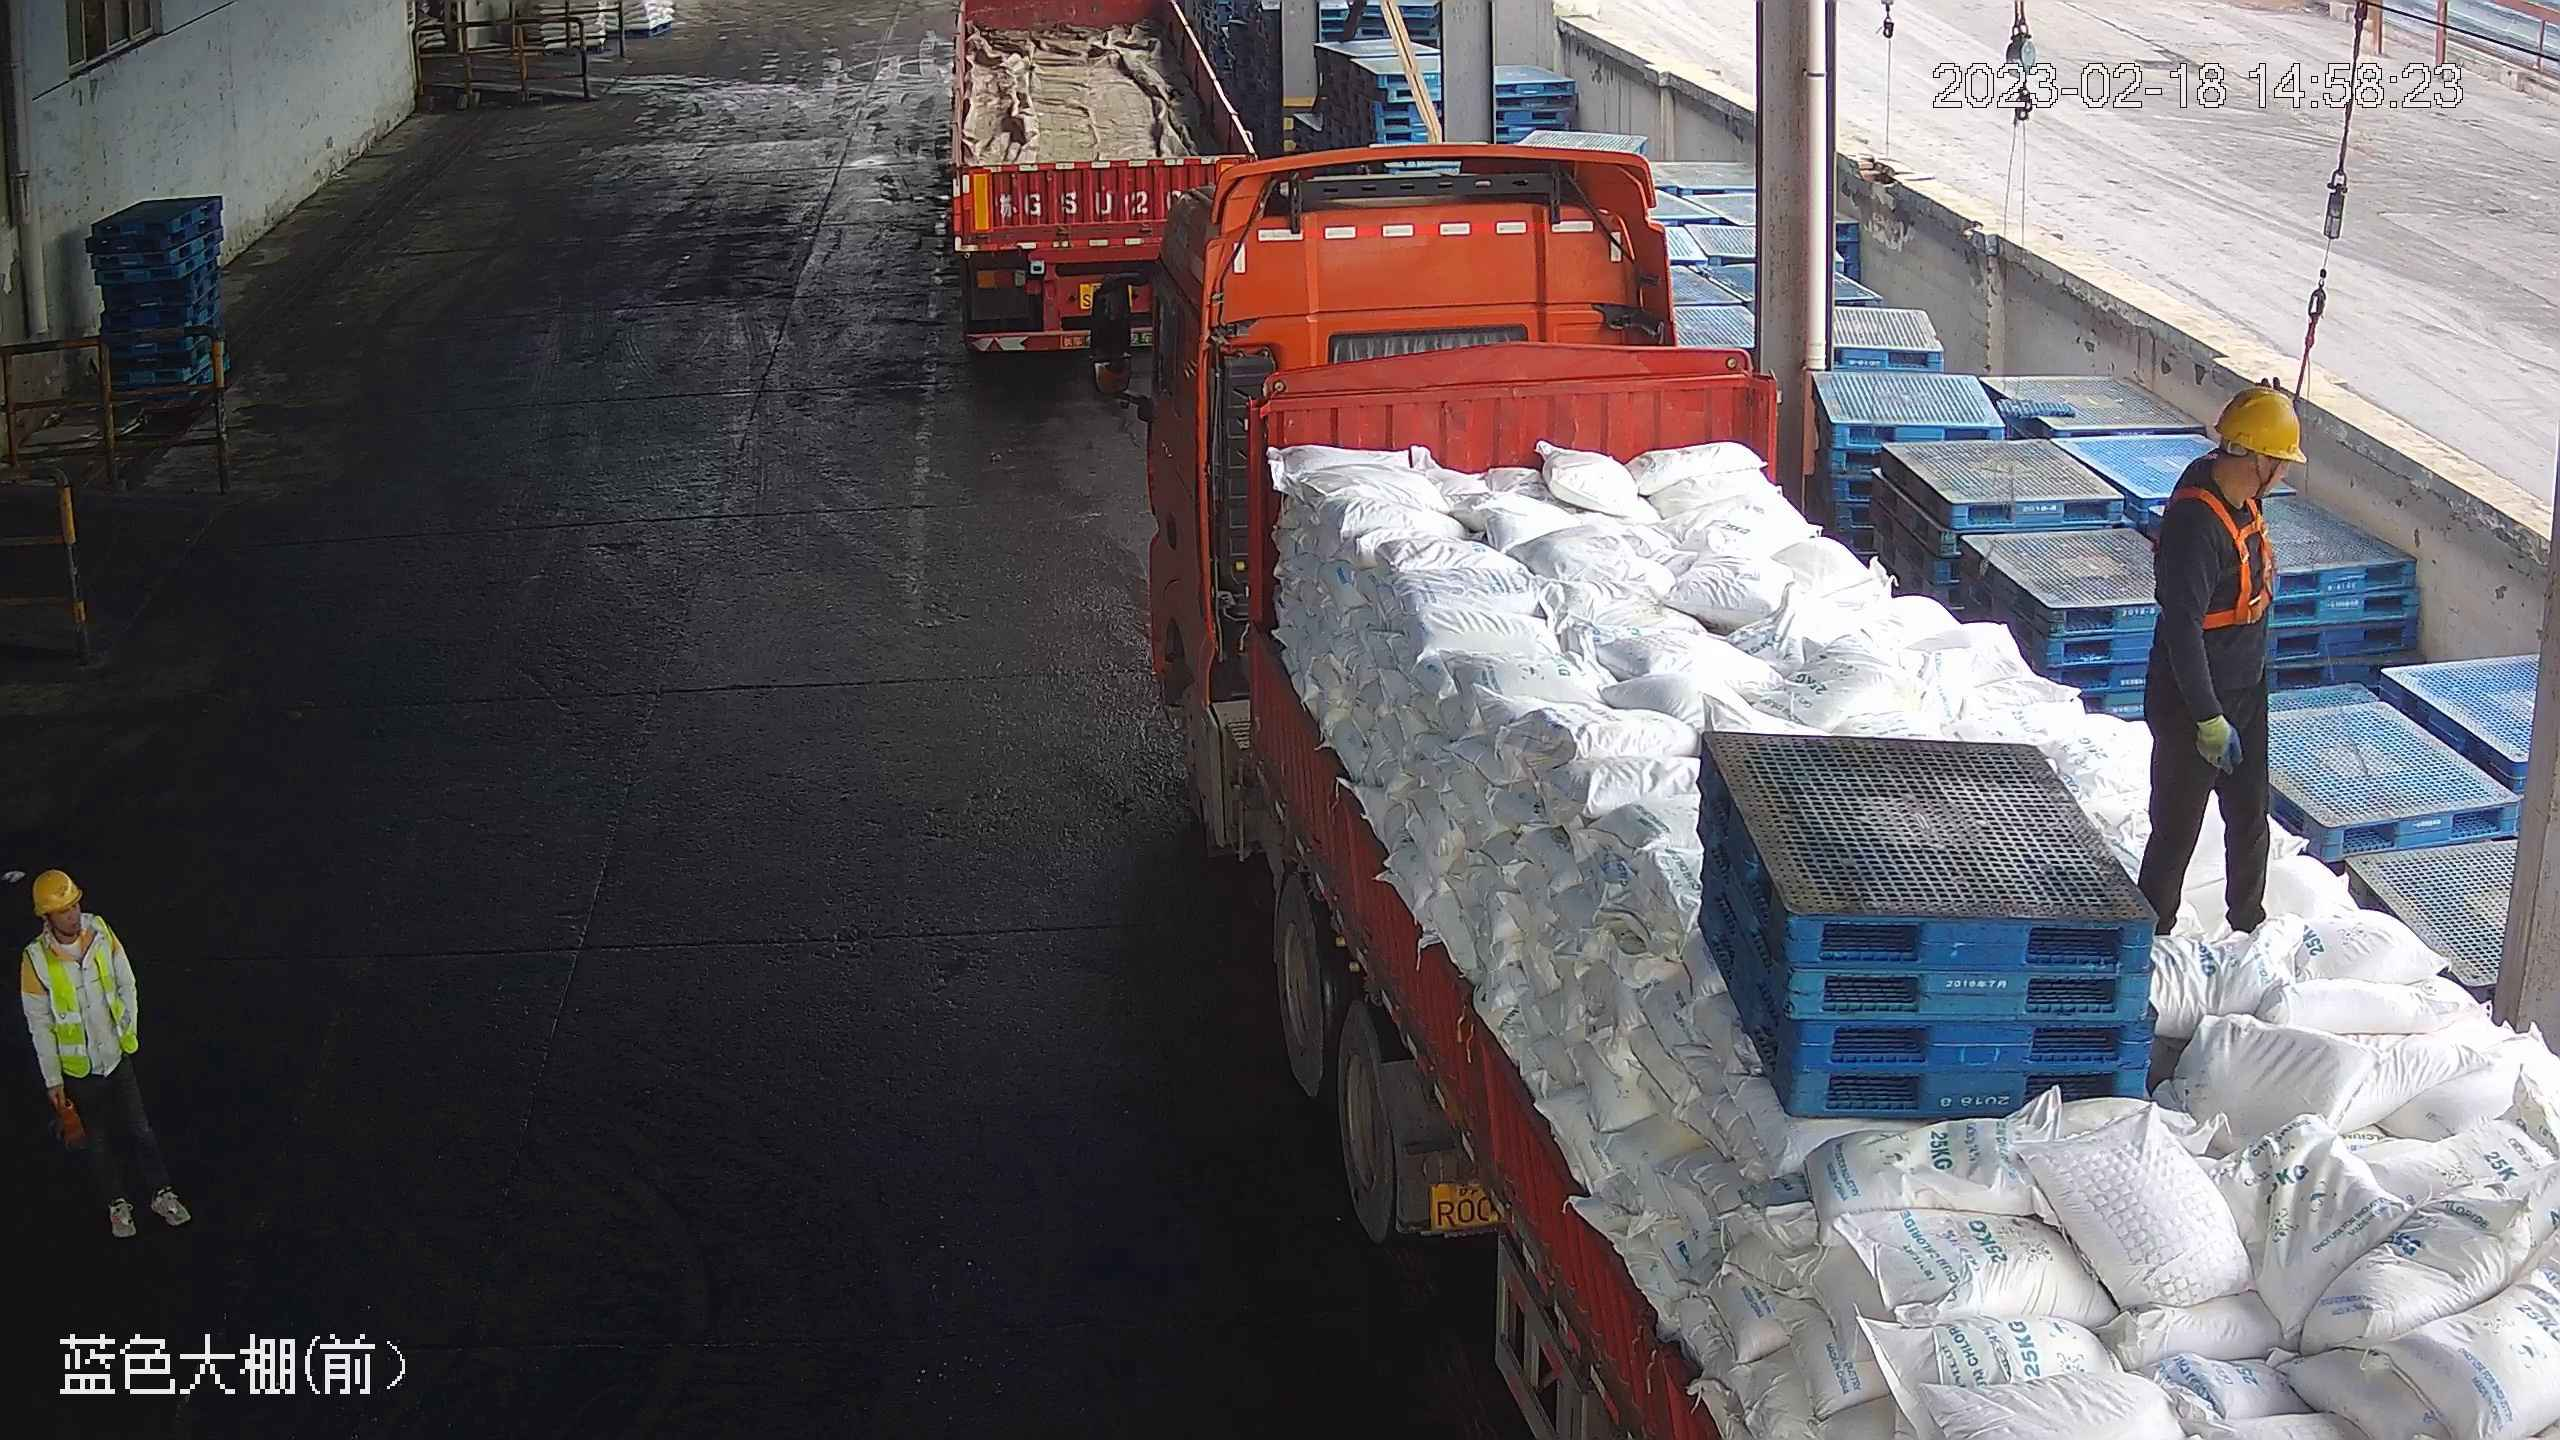belt: (2170, 481, 2285, 632)
head: (2150, 383, 2303, 571), (17, 867, 126, 985)
helmet: (2209, 382, 2303, 463), (24, 867, 80, 914)
people: (2134, 383, 2304, 941), (10, 862, 187, 1253)
truck: (1088, 154, 2558, 1440), (931, 3, 1292, 414)
